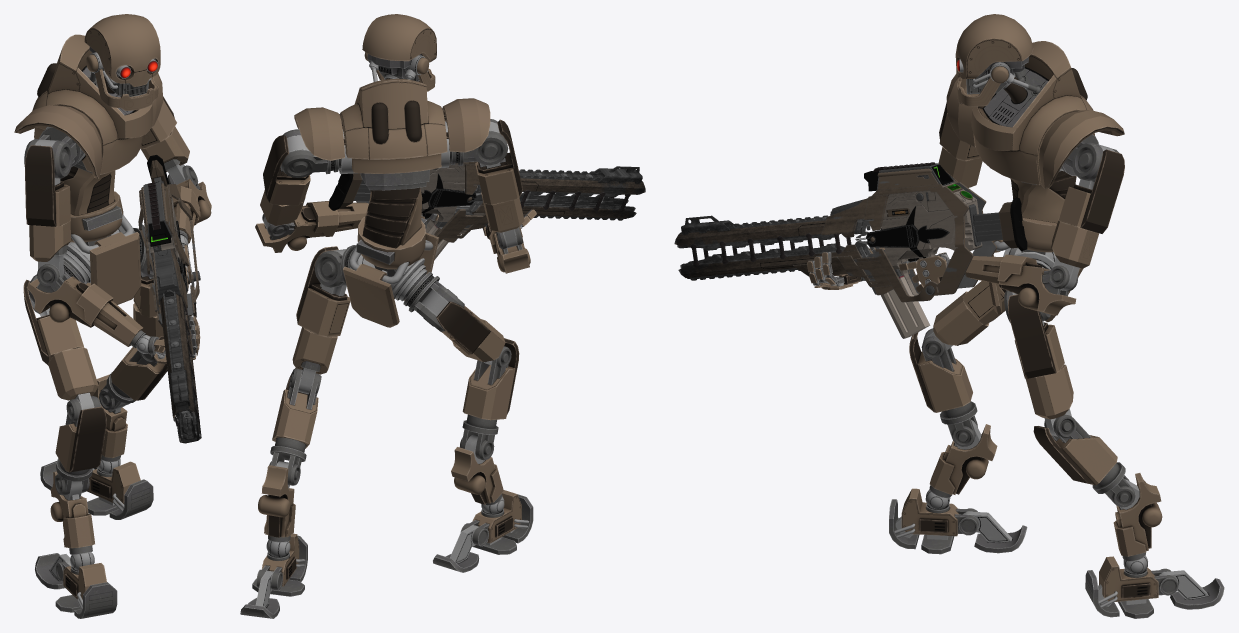
The model's file is another_robot.glb.
3 views of the same model, side by side, from view 1: azimuth 30°, elevation 25°; view 2: azimuth 150°, elevation 25°; view 3: azimuth 270°, elevation 25° (orthographic). The views are drawn at different scales.
Visible parts, largest first — view 1: Body, LegR, LegL, Gun1, Gun2; view 2: Body, LegR, LegL, Gun1, Gun2; view 3: Body, LegL, Gun2, LegR, Gun1.
Boxes of the visible parts, x1=… form: Body: x1=14, y1=14, x2=211, y2=363; LegR: x1=35, y1=347, x2=117, y2=618; LegL: x1=40, y1=287, x2=167, y2=519; Gun1: x1=143, y1=155, x2=201, y2=443; Gun2: x1=138, y1=183, x2=199, y2=440; Body: x1=255, y1=14, x2=536, y2=353; LegR: x1=433, y1=320, x2=533, y2=572; LegL: x1=240, y1=302, x2=340, y2=618; Gun1: x1=328, y1=163, x2=645, y2=240; Gun2: x1=356, y1=161, x2=642, y2=259; Body: x1=807, y1=14, x2=1124, y2=372; LegL: x1=1015, y1=343, x2=1224, y2=618; Gun2: x1=677, y1=168, x2=997, y2=338; LegR: x1=889, y1=291, x2=1027, y2=554; Gun1: x1=674, y1=162, x2=1027, y2=295.
Bounding box in the file's own units: 0.8499 × 1.95 × 1.73.
7 materials, 7 textured.
